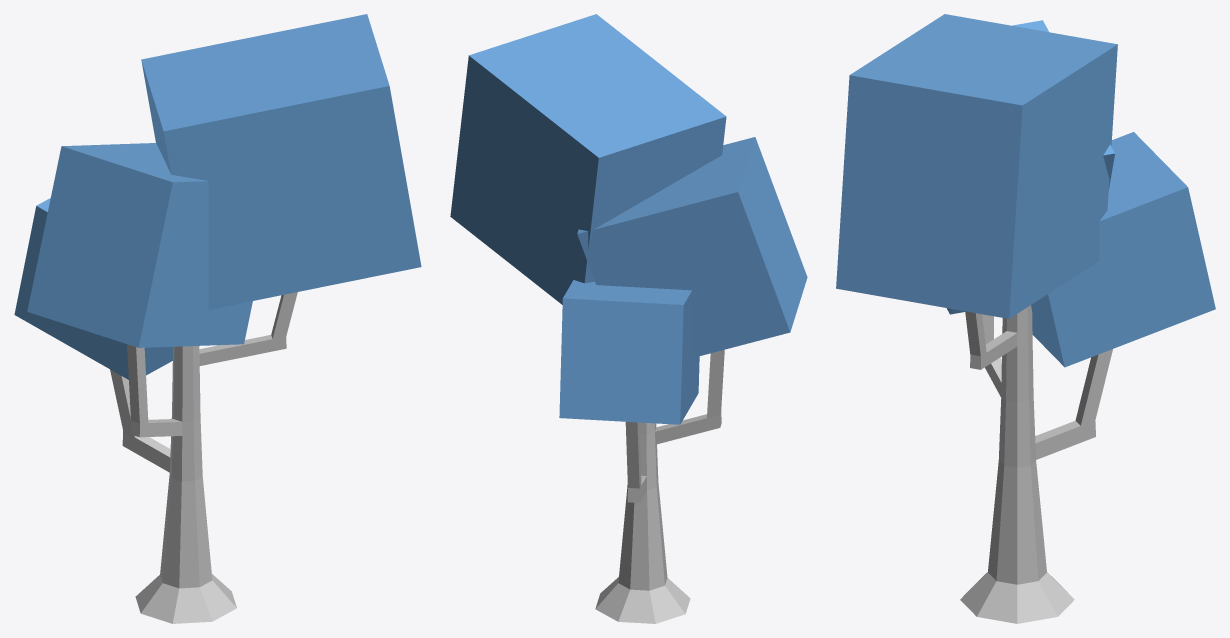
The model's file is Tree.fbx.
3 views of the same model, side by side, from view 1: azimuth 30°, elevation 25°; view 2: azimuth 150°, elevation 25°; view 3: azimuth 270°, elevation 25° (orthographic). The views are drawn at different scales.
Visible parts, largest first — view 1: Tree; view 2: Tree; view 3: Tree.
Boxes of the visible parts, x1,y1,x2,y2 form: Tree: [14, 14, 421, 623]; Tree: [450, 14, 807, 623]; Tree: [836, 14, 1215, 623].
Bounding box in the file's own units: 613 × 864 × 503.
